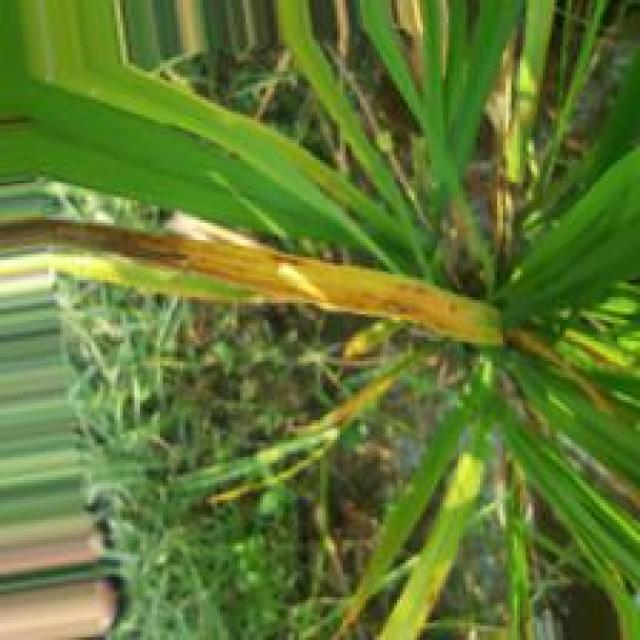Rice Tungro: (0, 216, 187, 267)
